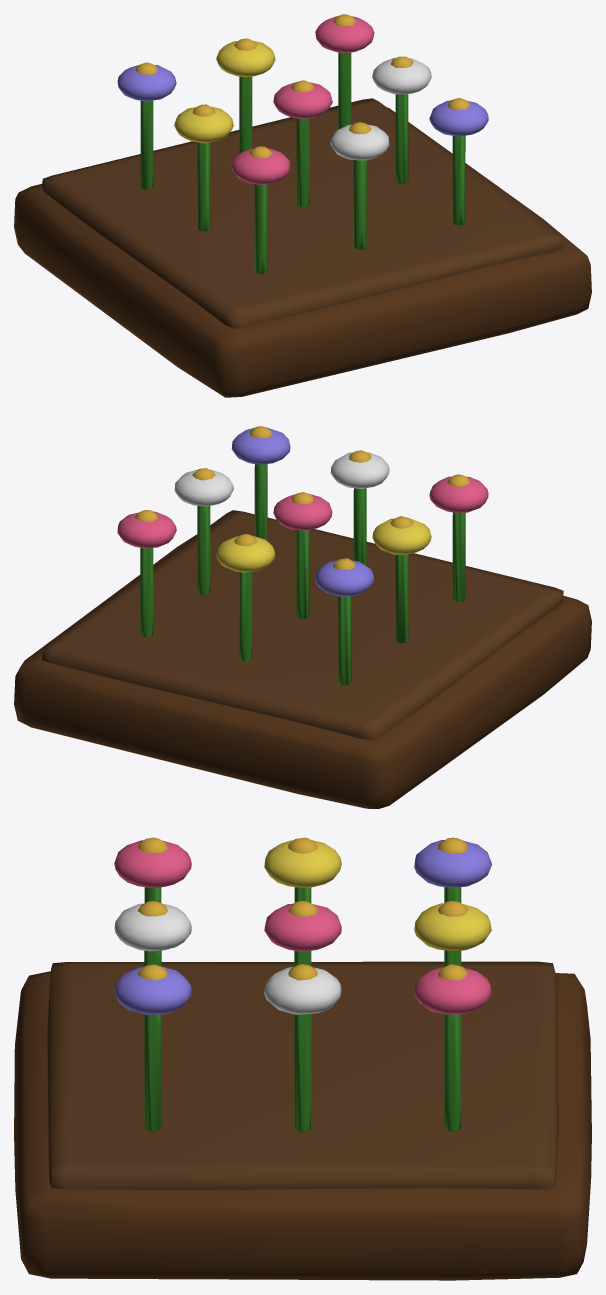
File: Blumenbeet.fbx
3 renders of one model, top to bottom at view 1: azimuth 30°, elevation 25°; view 2: azimuth 150°, elevation 25°; view 3: azimuth 270°, elevation 25°, orthographic. The views are drawn at different scales.
Parts seen in each view (by area): view 1: Blumenbeet; view 2: Blumenbeet; view 3: Blumenbeet.
Boxes of the visible parts, <box> form: Blumenbeet: <box>14,14,591,397</box>; Blumenbeet: <box>14,426,591,808</box>; Blumenbeet: <box>14,837,591,1280</box>.
Bounding box in the file's own units: 0.8478 × 0.439 × 0.8478.
